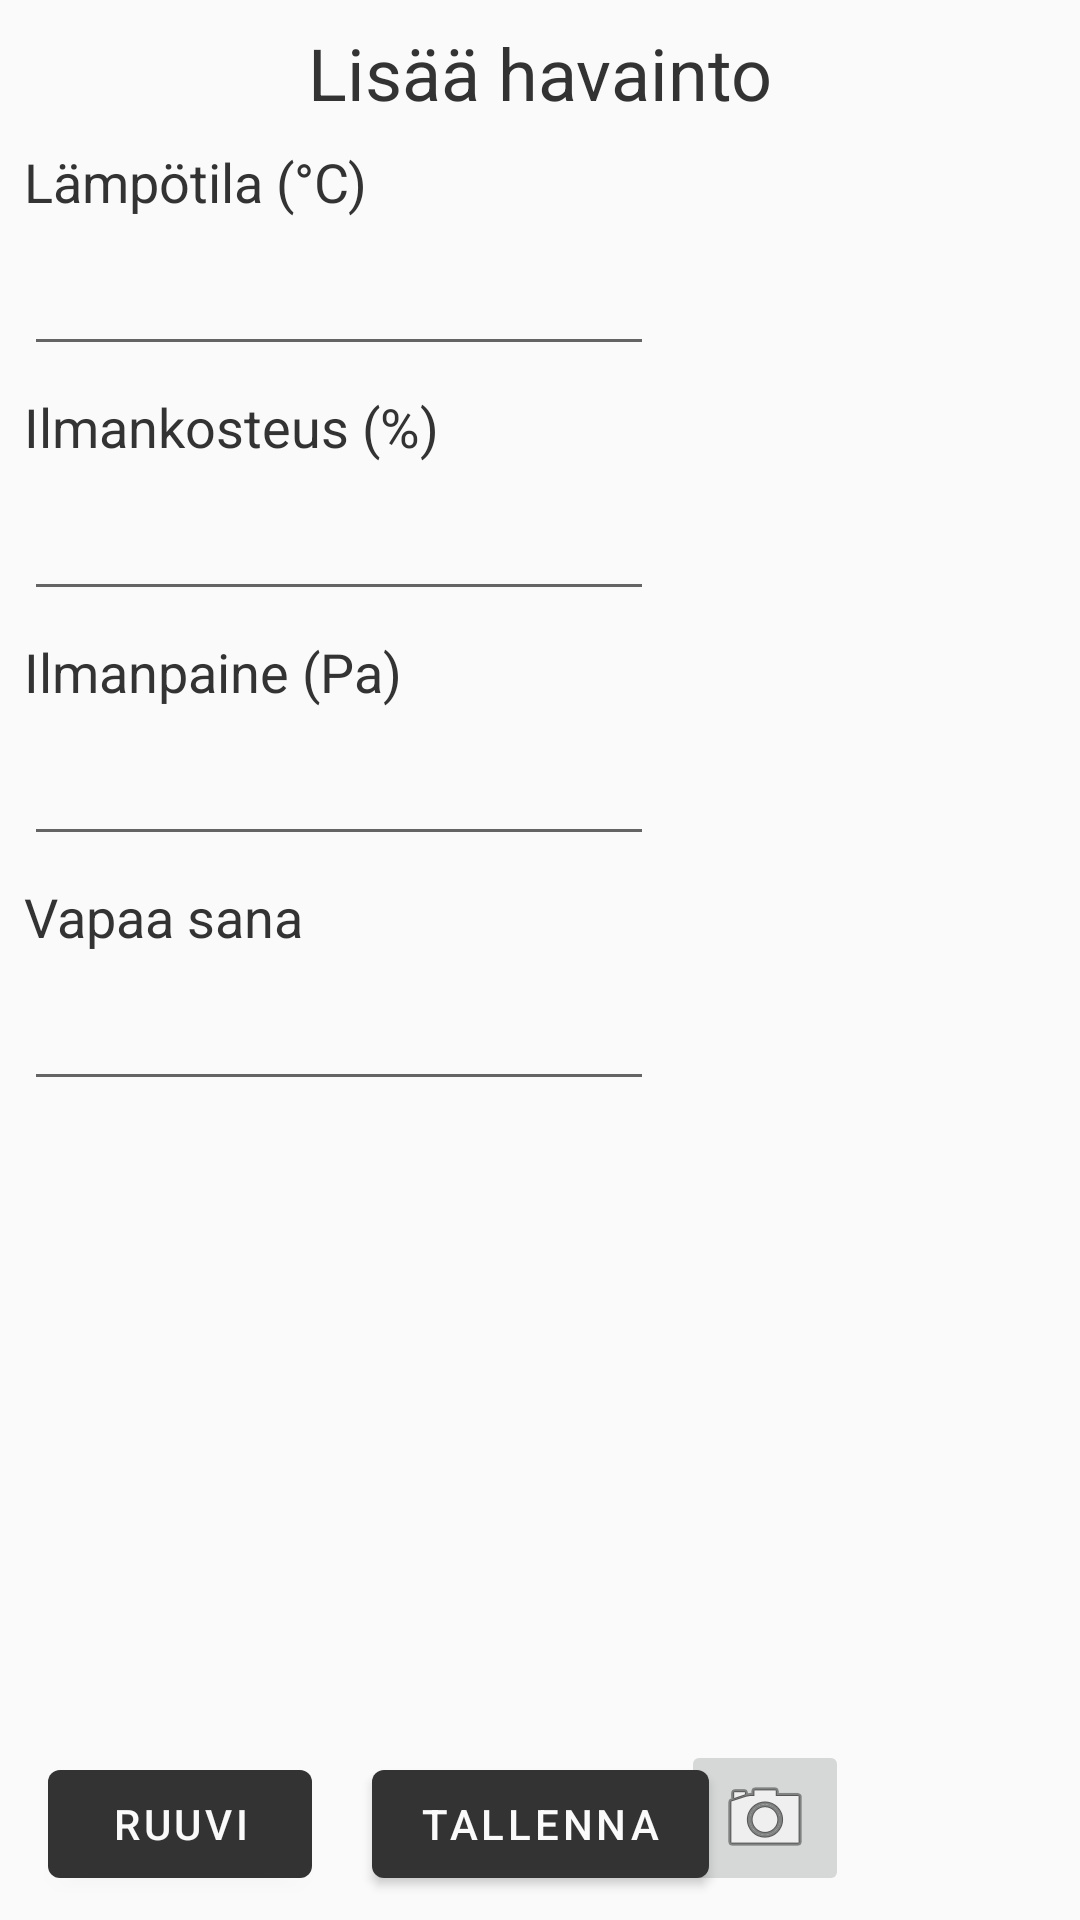

Screen size 1080px×1920px. Icon name, then its center in pixels as point (x, y):
camera: point (759, 1821)
